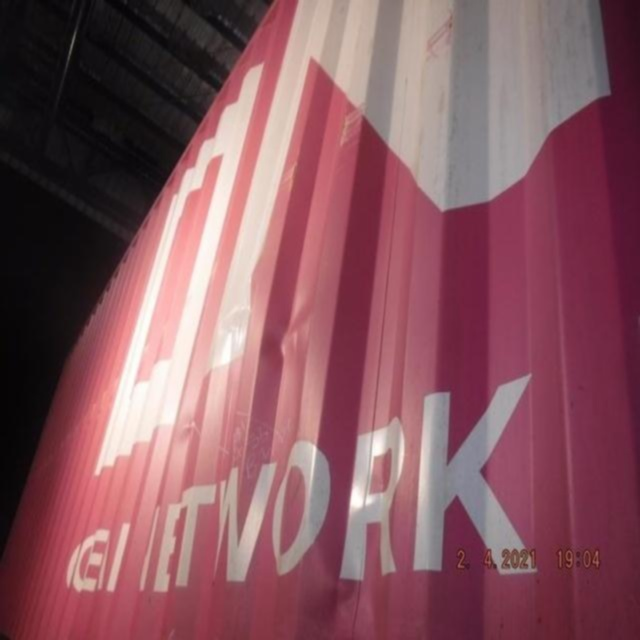Dent: (166, 205, 353, 480), (294, 530, 393, 640)
